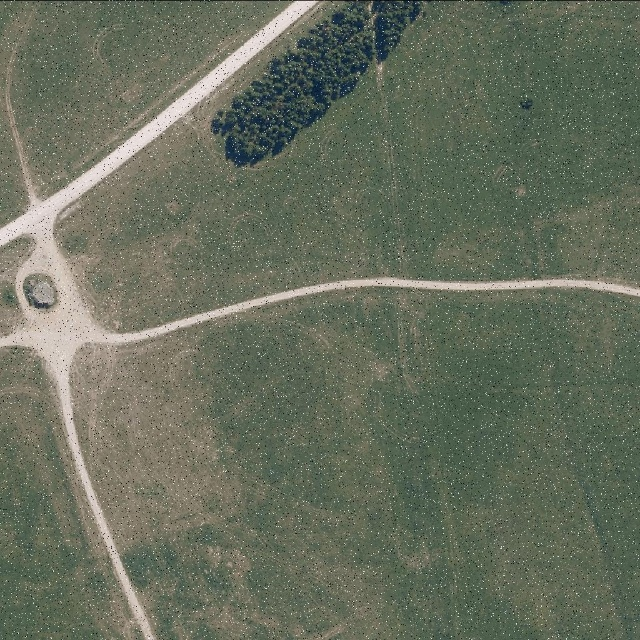vegetation: (212, 0, 438, 161)
